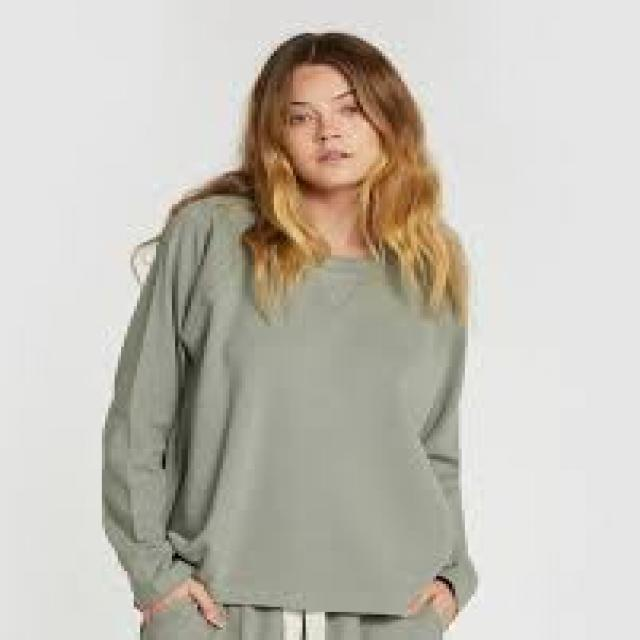plain: (89, 190, 484, 614)
